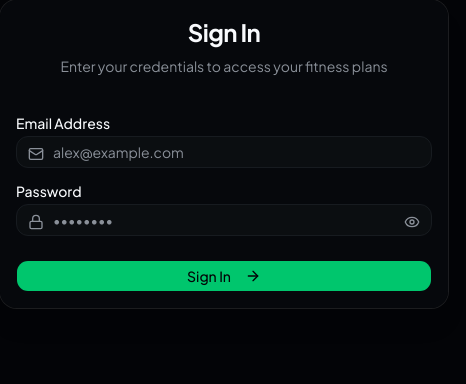
Scenario: Showcase: Component Tests -> LoginFormCard › displays client-side validation error when submitting empty fields
The width and height of the screenshot is (466, 384).
Click the button "Sign In" at {"x": 224, "y": 276}, box [16,260,432,292]
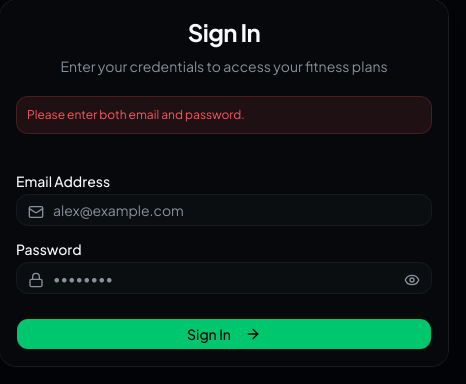
Result: the message reads "Please enter both email and password." at [27,107,245,122]
